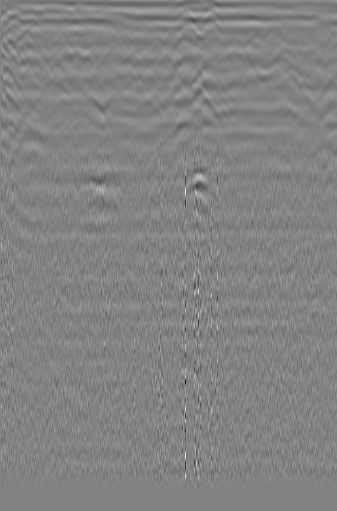상수: (294, 47, 327, 67)
오수: (10, 24, 42, 54)
우수: (169, 10, 203, 49)
